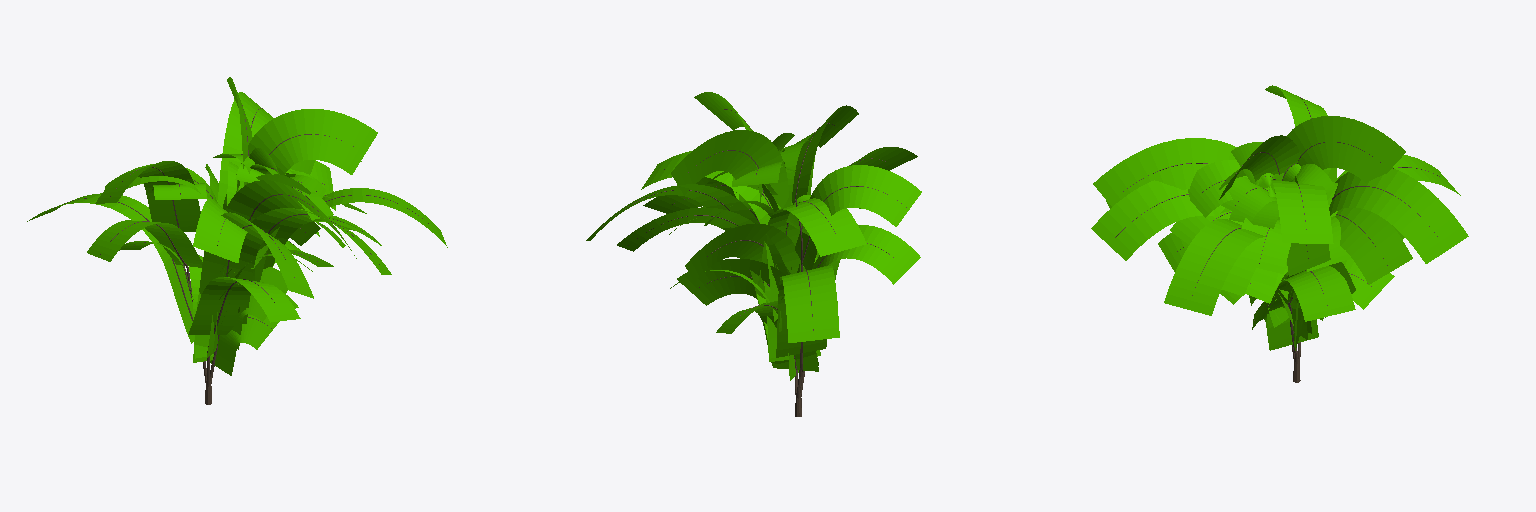
File: banana.obj
3 renders of one model, left to right at view 1: azimuth 30°, elevation 25°; view 2: azimuth 150°, elevation 25°; view 3: azimuth 270°, elevation 25°, orthographic.
Visible parts, largest first — view 1: plant_pmat4.003, plant_pmat3.003; view 2: plant_pmat4.003, plant_pmat3.003; view 3: plant_pmat4.003.
Part boxes in pixels (left/top/right/bottom): plant_pmat4.003: left=27, top=77, right=447, bottom=375; plant_pmat3.003: left=46, top=105, right=428, bottom=365; plant_pmat4.003: left=586, top=92, right=921, bottom=380; plant_pmat3.003: left=602, top=109, right=906, bottom=369; plant_pmat4.003: left=1091, top=85, right=1468, bottom=350.
Bounding box in the file's own units: 1.34 × 1.22 × 1.45.